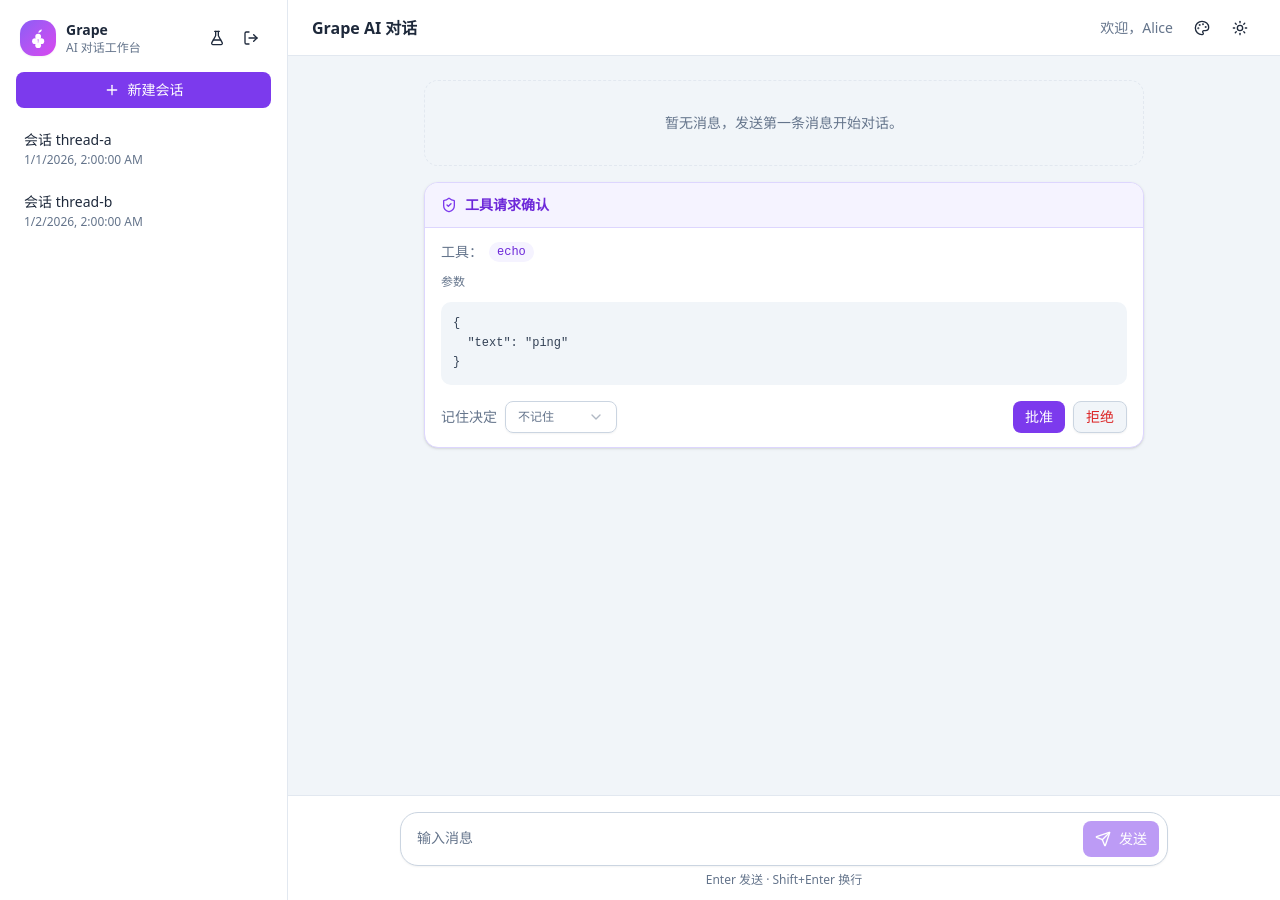
Scenario: ChatPage history convergence after decision › repolls_history_after_a_decision_until_adjacent_snapshots_match
Click the button "批准".
click(1039, 416)  # box [1013,400,1065,432]
Wait 11000 ms
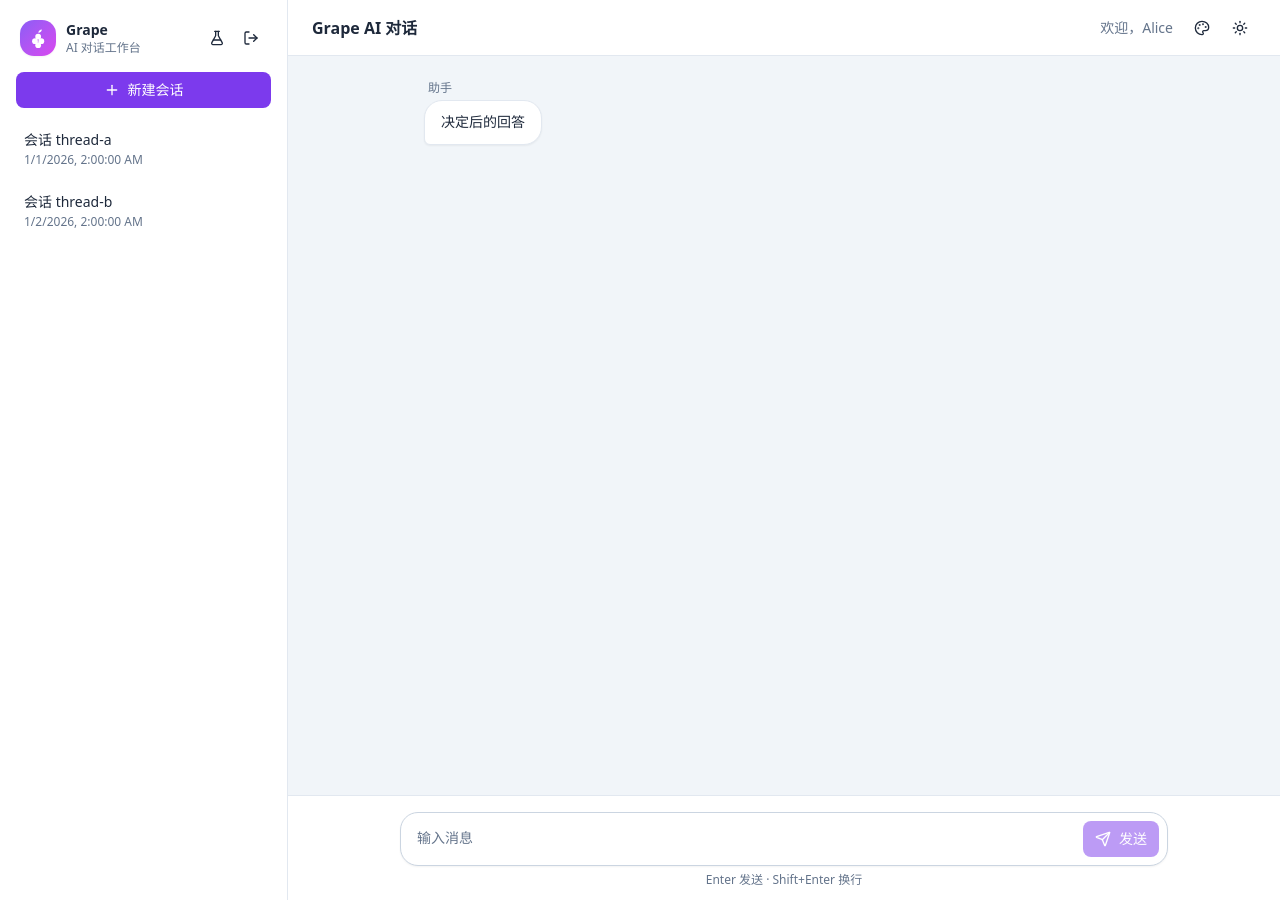
Expected: the element showing "助手 决定后的回答" is shown, [424,79,542,145]
